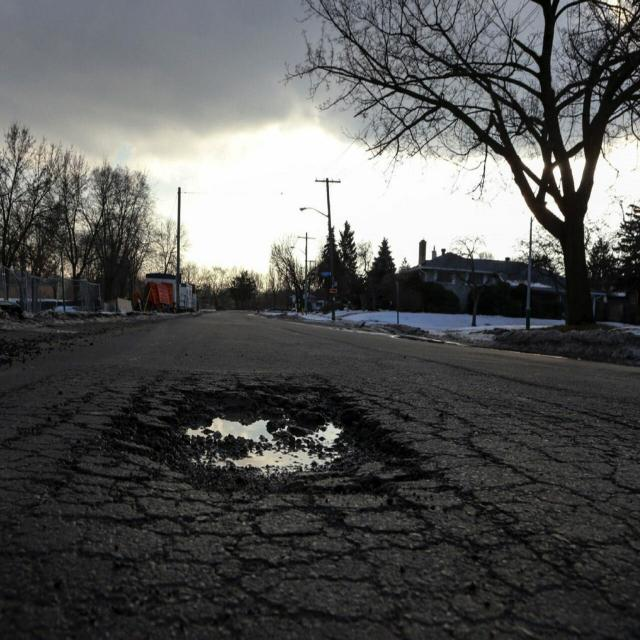Pothole: (96, 358, 453, 567)
